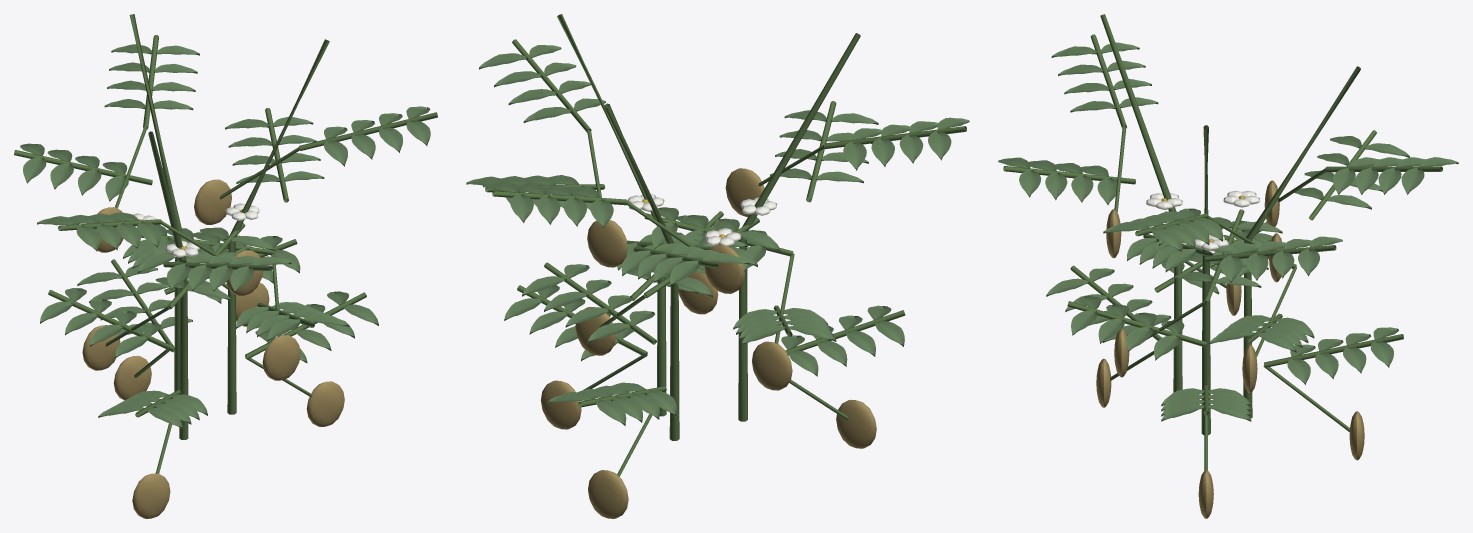
Rendered from lenteja.glb.
3 views of the same model, side by side, from view 1: azimuth 30°, elevation 25°; view 2: azimuth 150°, elevation 25°; view 3: azimuth 270°, elevation 25° (orthographic). The views are drawn at different scales.
Parts seen in each view (by area): view 1: lenteja; view 2: lenteja; view 3: lenteja.
Boxes of the visible parts, x1,y1,x2,y2 form: lenteja: [14, 14, 437, 518]; lenteja: [466, 14, 969, 518]; lenteja: [998, 14, 1458, 518].
Bounding box in the file's own units: 0.518 × 0.4653 × 0.4953.
